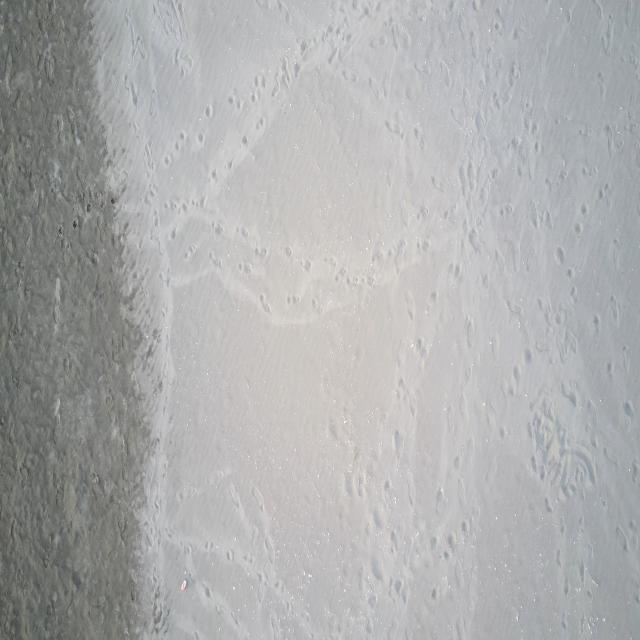tin-and-aluminum-cans: (180, 579, 188, 593)
